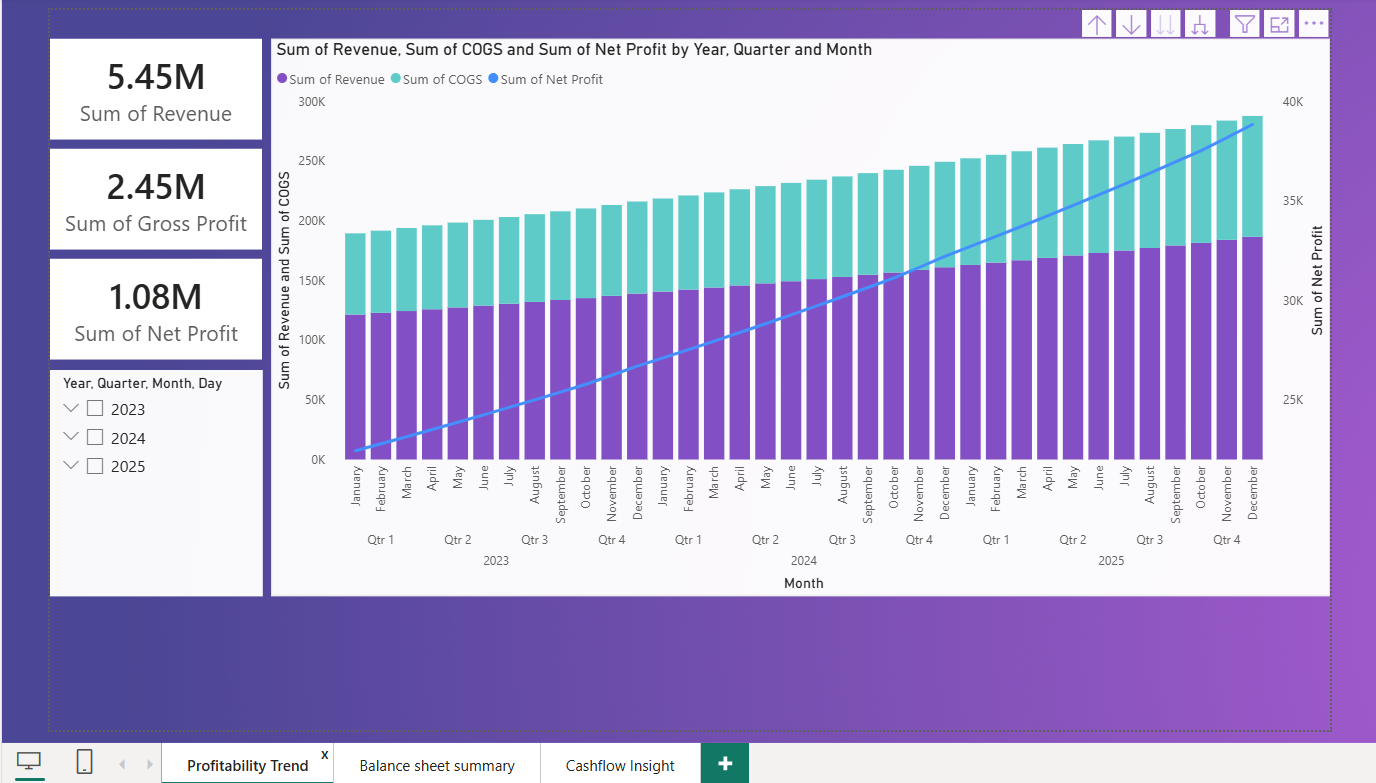

The dashboard page shown, as its layout file describes it:
{"tool":"powerbi","page":{"name":"Profitability Trend","canvas":[1280,720],"ordinal":0},"visuals":[{"type":"cardVisual","fields":{"Data":["Sum(Income_Statement.Revenue)"]},"box":[0,28.8,212.5,101.2],"z":0},{"type":"cardVisual","fields":{"Data":["Sum(Income_Statement.Gross Profit)"]},"box":[0,138.8,212.5,101.2],"z":1000},{"type":"cardVisual","fields":{"Data":["Sum(Income_Statement.Net Profit)"]},"box":[0,248.8,212.5,101.2],"z":2000},{"type":"lineStackedColumnComboChart","fields":{"Category":["Income_Statement.Date.Variation.Date Hierarchy.Year","Income_Statement.Date.Variation.Date Hierarchy.Quarter","Income_Statement.Date.Variation.Date Hierarchy.Month","Income_Statement.Date.Variation.Date Hierarchy.Day"],"Y":["Sum(Income_Statement.Revenue)","Sum(Income_Statement.COGS)"],"Y2":["Sum(Income_Statement.Net Profit)"]},"box":[221.2,28.8,1058.8,557.5],"z":3000},{"type":"slicer","fields":{"Values":["Income_Statement.Date.Variation.Date Hierarchy.Year","Income_Statement.Date.Variation.Date Hierarchy.Quarter","Income_Statement.Date.Variation.Date Hierarchy.Month","Income_Statement.Date.Variation.Date Hierarchy.Day"]},"box":[0,360,212.5,226.2],"z":4000}]}

Visuals, with their boxes on the page's 1280x720 design canvas (x1, y1, x2, y2). These are canvas units, not pixel positions in the 1376x783 screenshot, which may show the page scaled, cropped or inside an application window:
cardVisual - Sum(Income_Statement.Revenue): Rect(0, 29, 212, 130)
cardVisual - Sum(Income_Statement.Gross Profit): Rect(0, 139, 212, 240)
cardVisual - Sum(Income_Statement.Net Profit): Rect(0, 249, 212, 350)
lineStackedColumnComboChart - Income_Statement.Date.Variation.Date Hierarchy.Year x Income_Statement.Date.Variation.Date Hierarchy.Quarter: Rect(221, 29, 1280, 586)
slicer - Income_Statement.Date.Variation.Date Hierarchy.Year x Income_Statement.Date.Variation.Date Hierarchy.Quarter: Rect(0, 360, 212, 586)
